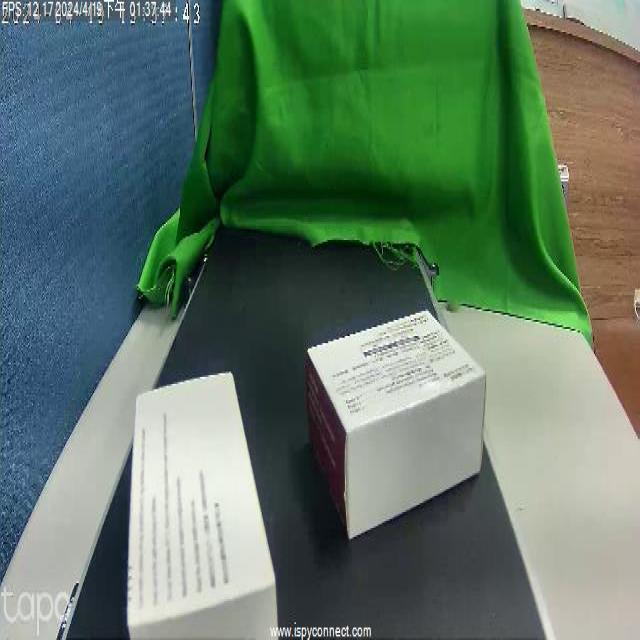box: (139, 375, 269, 640), (330, 315, 475, 546)
